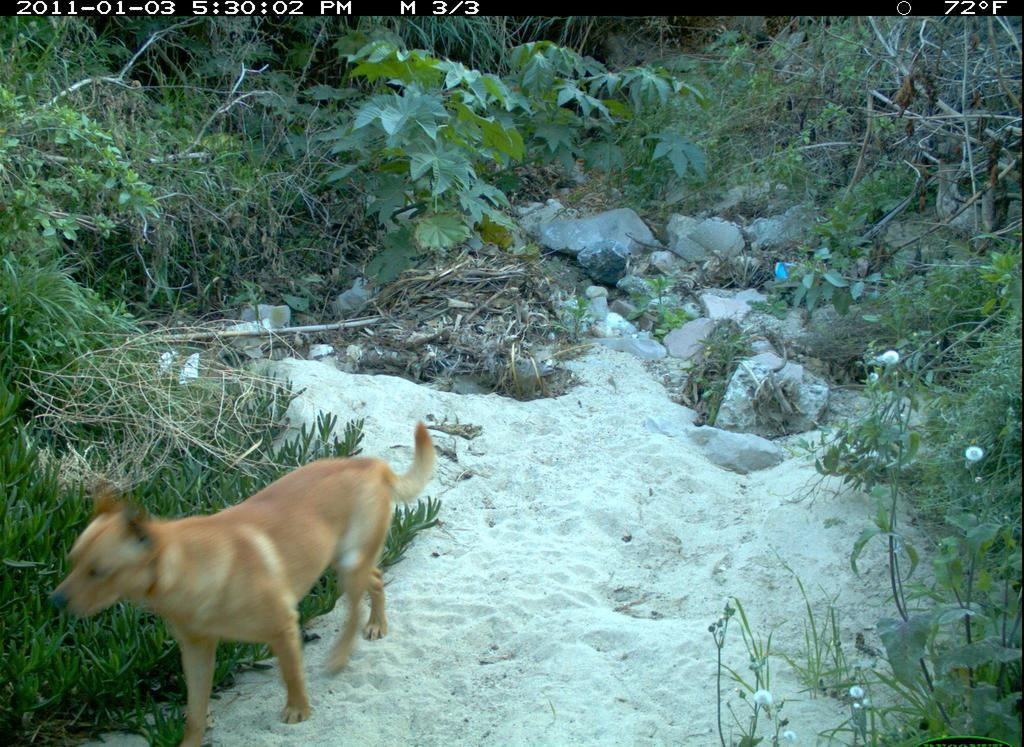dog: (36, 414, 460, 745)
